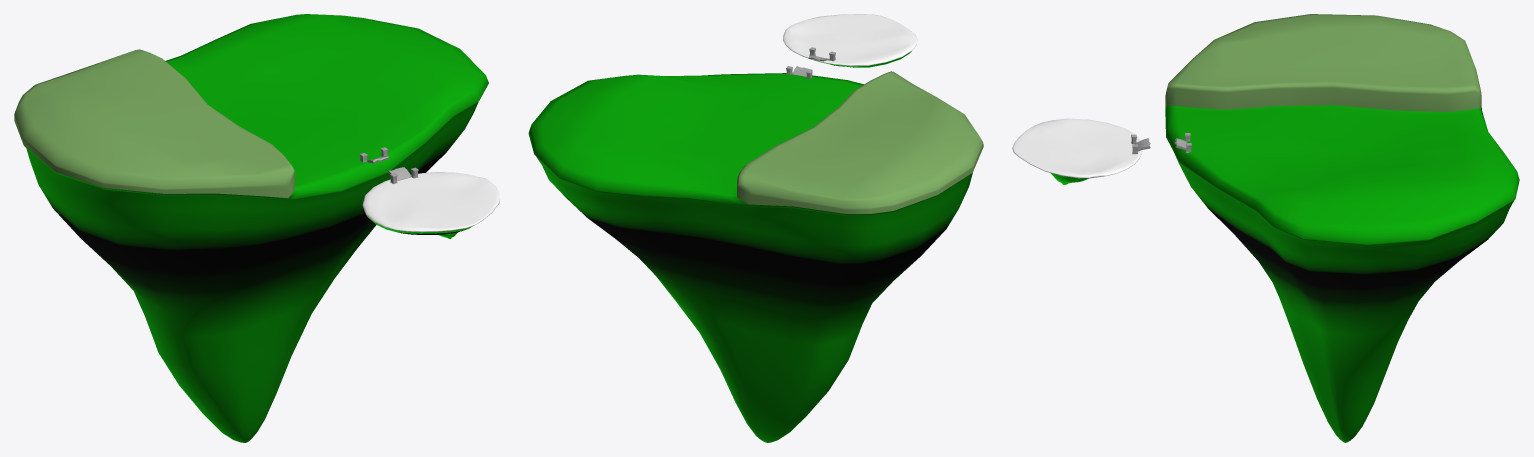
Rendered from Main island without road.fbx.
The picture shows the model from 3 angles, left to right: view 1: azimuth 30°, elevation 25°; view 2: azimuth 150°, elevation 25°; view 3: azimuth 270°, elevation 25°; orthographic projection. The views are drawn at different scales.
Visible parts, largest first — view 1: polySurface66, polySurface67, polySurface323; view 2: polySurface66, polySurface67, polySurface323; view 3: polySurface66, polySurface67, polySurface323.
Part boxes in pixels (left/top/right/bottom): polySurface66: left=24, top=14, right=488, bottom=442; polySurface67: left=14, top=49, right=294, bottom=197; polySurface323: left=362, top=172, right=499, bottom=232; polySurface66: left=528, top=73, right=972, bottom=442; polySurface67: left=737, top=71, right=983, bottom=213; polySurface323: left=783, top=14, right=917, bottom=66; polySurface66: left=1165, top=105, right=1519, bottom=442; polySurface67: left=1165, top=14, right=1481, bottom=111; polySurface323: left=1012, top=118, right=1142, bottom=178.
Bounding box in the file's own units: 146 × 115 × 153.
